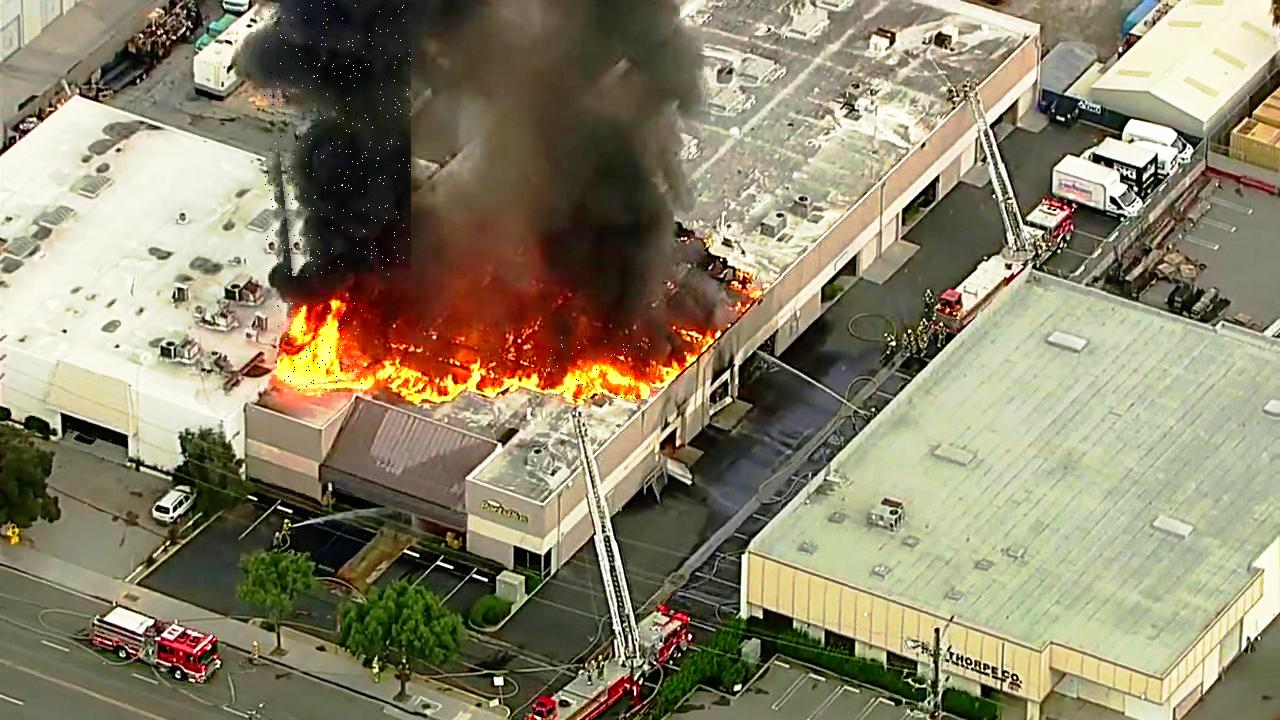fire: (264, 2, 411, 276), (277, 304, 363, 392), (547, 337, 653, 402)
